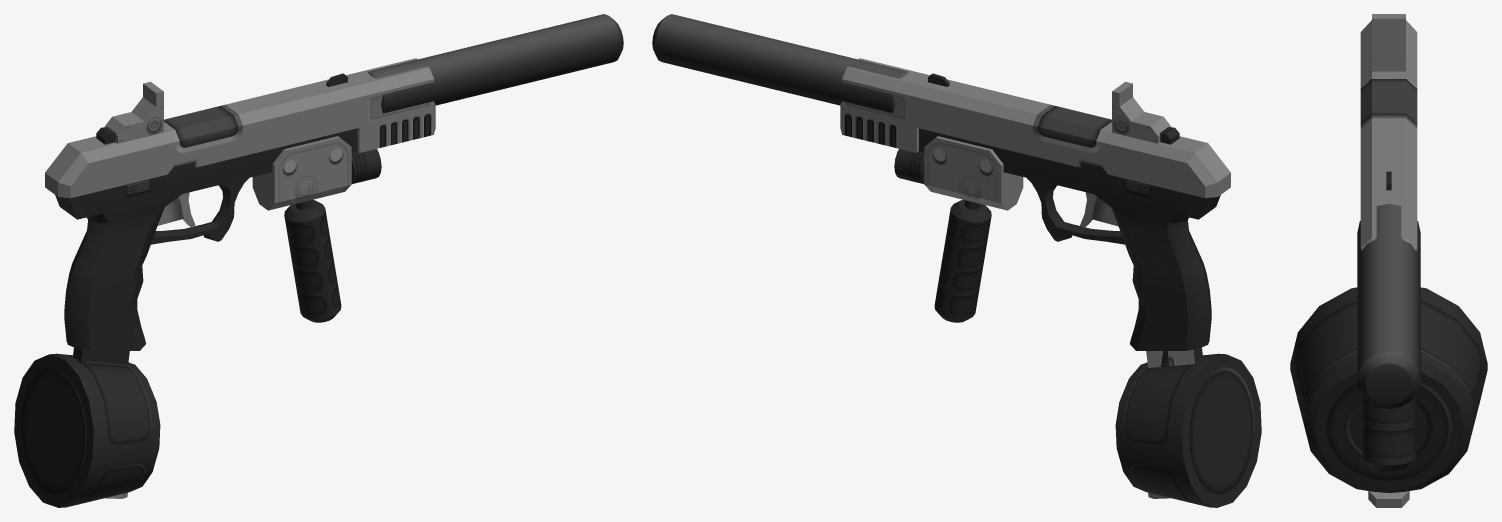
The model's file is Pistol_Kit.fbx.
3 views of the same model, side by side, from view 1: azimuth 30°, elevation 25°; view 2: azimuth 150°, elevation 25°; view 3: azimuth 270°, elevation 25° (orthographic). The views are drawn at different scales.
Parts seen in each view (by area): view 1: Magazine_Drum, Slide, Handle_Grip, Silencer, Flashlight_Mount1, Lower_Grip, Barrel_Extender, Holo_Sight, Trigger_Guard, Torch, Trigger; view 2: Magazine_Drum, Slide, Handle_Grip, Silencer, Flashlight_Mount1, Lower_Grip, Barrel_Extender, Holo_Sight, Trigger_Guard, Torch, Trigger, Magazine_Clip; view 3: Magazine_Drum, Silencer, Slide, Lower_Grip, Holo_Sight, Barrel_Extender, Magazine_Clip.
Part boxes in pixels (<box>): Magazine_Drum: <box>14,347,160,507</box>; Slide: <box>45,75,364,198</box>; Handle_Grip: <box>55,128,356,350</box>; Silencer: <box>367,14,623,113</box>; Flashlight_Mount1: <box>252,136,351,210</box>; Lower_Grip: <box>284,199,341,322</box>; Barrel_Extender: <box>348,58,435,152</box>; Holo_Sight: <box>104,81,163,143</box>; Trigger_Guard: <box>151,177,249,244</box>; Torch: <box>351,149,381,183</box>; Trigger: <box>157,192,195,227</box>; Magazine_Drum: <box>1115,347,1261,507</box>; Slide: <box>911,75,1230,198</box>; Handle_Grip: <box>919,128,1220,350</box>; Silencer: <box>652,14,908,113</box>; Flashlight_Mount1: <box>924,136,1023,210</box>; Lower_Grip: <box>934,199,991,322</box>; Barrel_Extender: <box>840,58,927,152</box>; Holo_Sight: <box>1112,81,1171,143</box>; Trigger_Guard: <box>1026,177,1124,244</box>; Torch: <box>894,149,924,183</box>; Trigger: <box>1080,192,1118,228</box>; Magazine_Clip: <box>1146,349,1194,498</box>; Magazine_Drum: <box>1290,287,1487,492</box>; Silencer: <box>1357,204,1420,408</box>; Slide: <box>1360,20,1417,204</box>; Lower_Grip: <box>1362,395,1415,471</box>; Holo_Sight: <box>1372,14,1405,71</box>; Barrel_Extender: <box>1360,194,1417,251</box>; Magazine_Clip: <box>1368,491,1409,507</box>.
Size of the model in its own units: 37.35 by 24.89 by 8.71.
